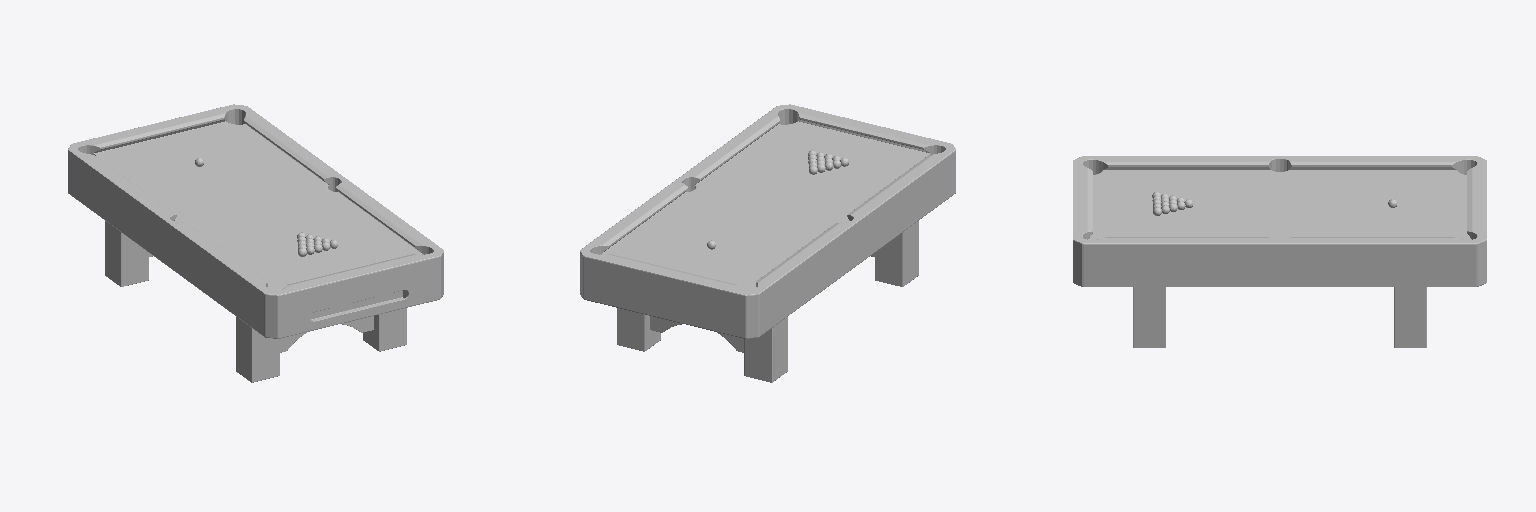
File: Pool_Table1.obj
3 renders of one model, left to right at view 1: azimuth 30°, elevation 25°; view 2: azimuth 150°, elevation 25°; view 3: azimuth 270°, elevation 25°, orthographic.
Parts seen in each view (by area): view 1: Pool_Table; view 2: Pool_Table; view 3: Pool_Table.
Part boxes in pixels (bbox=[...]): Pool_Table: bbox=[68, 104, 443, 382]; Pool_Table: bbox=[580, 104, 955, 382]; Pool_Table: bbox=[1073, 156, 1486, 347].
Size of the model in its own units: 127 by 76.36 by 254.